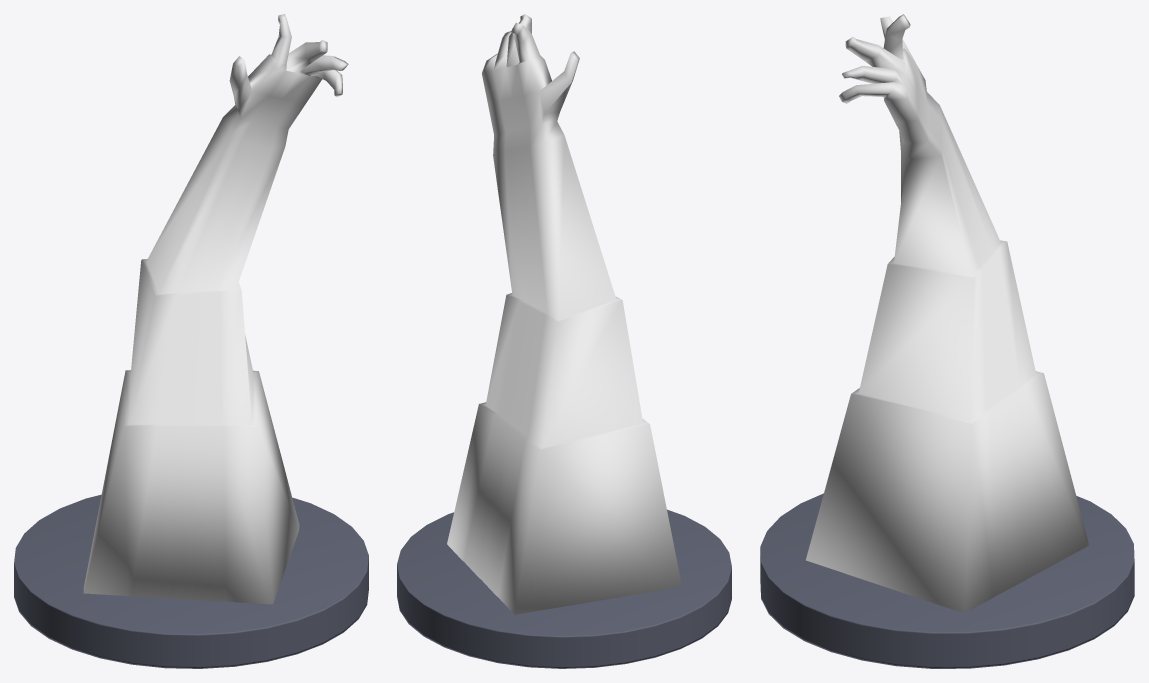
File: Gelacalcium.fbx
3 views of the same model, side by side, from view 1: azimuth 30°, elevation 25°; view 2: azimuth 150°, elevation 25°; view 3: azimuth 270°, elevation 25° (orthographic). The views are drawn at different scales.
Visible parts, largest first — view 1: Cube, Cylinder; view 2: Cube, Cylinder; view 3: Cube, Cylinder.
Part boxes in pixels (left/top/right/bottom): Cube: left=83, top=14, right=348, bottom=604; Cylinder: left=14, top=494, right=368, bottom=668; Cube: left=447, top=14, right=681, bottom=614; Cylinder: left=397, top=509, right=731, bottom=668; Cube: left=806, top=14, right=1088, bottom=612; Cylinder: left=760, top=493, right=1134, bottom=668.
Size of the model in its own units: 199 by 359 by 199.
